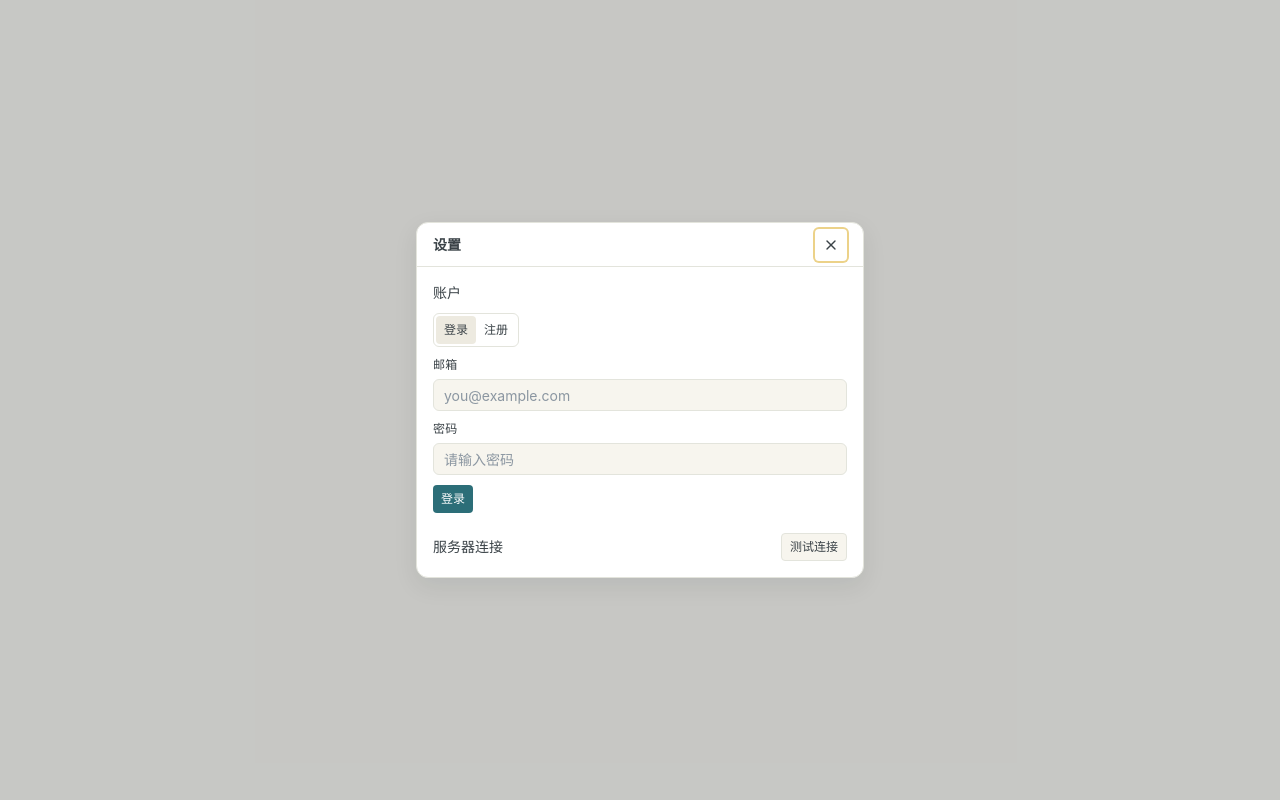
Test: settings dialog account section (cms chain) › login failure: inline error shows message and hint as two lines (findings M8)
Check: the element with test id "settings-account-form" is shown, box 433,313 -> 847,513
Type "fan@example.com" into the field with test id "settings-email".
click(640, 395); type("fan@example.com")  # box 433,379 -> 847,411
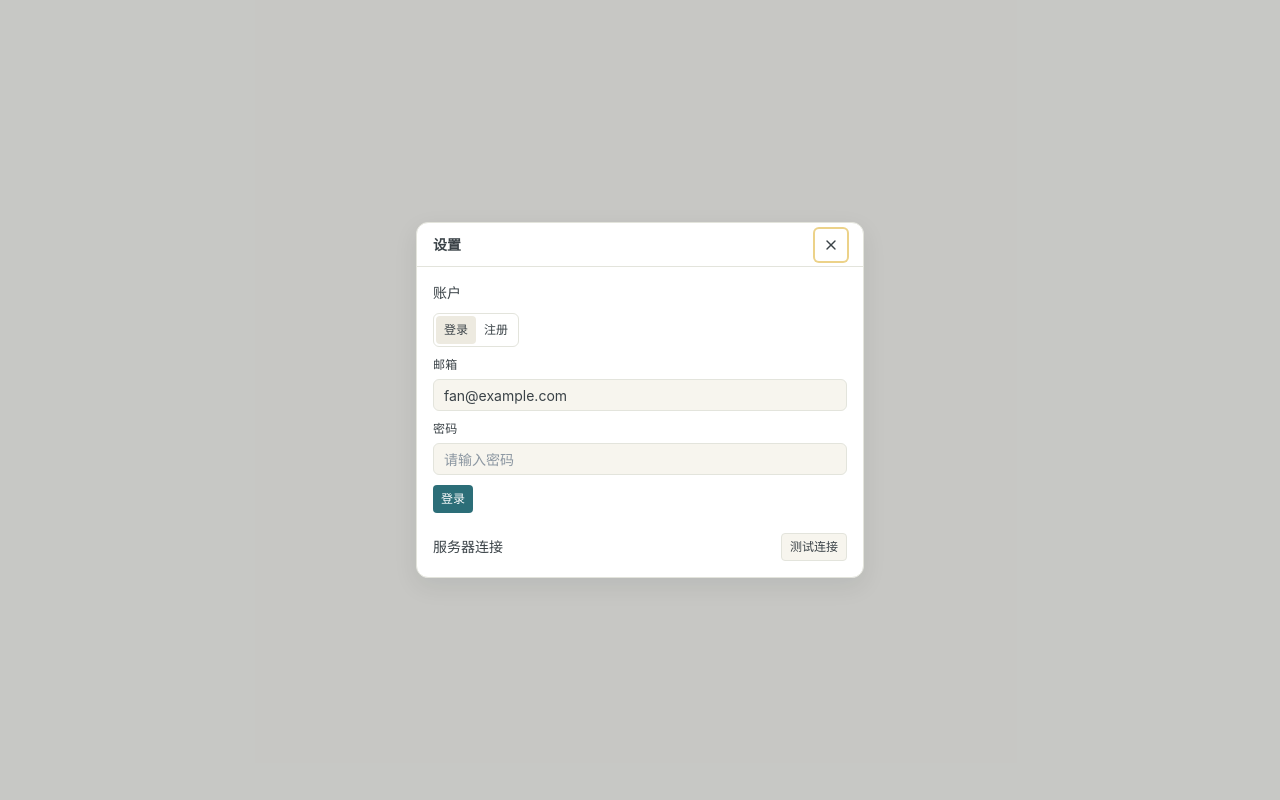
Type "secret-1" into the password field with test id "settings-password".
click(640, 459); type("secret-1")  # box 433,443 -> 847,475
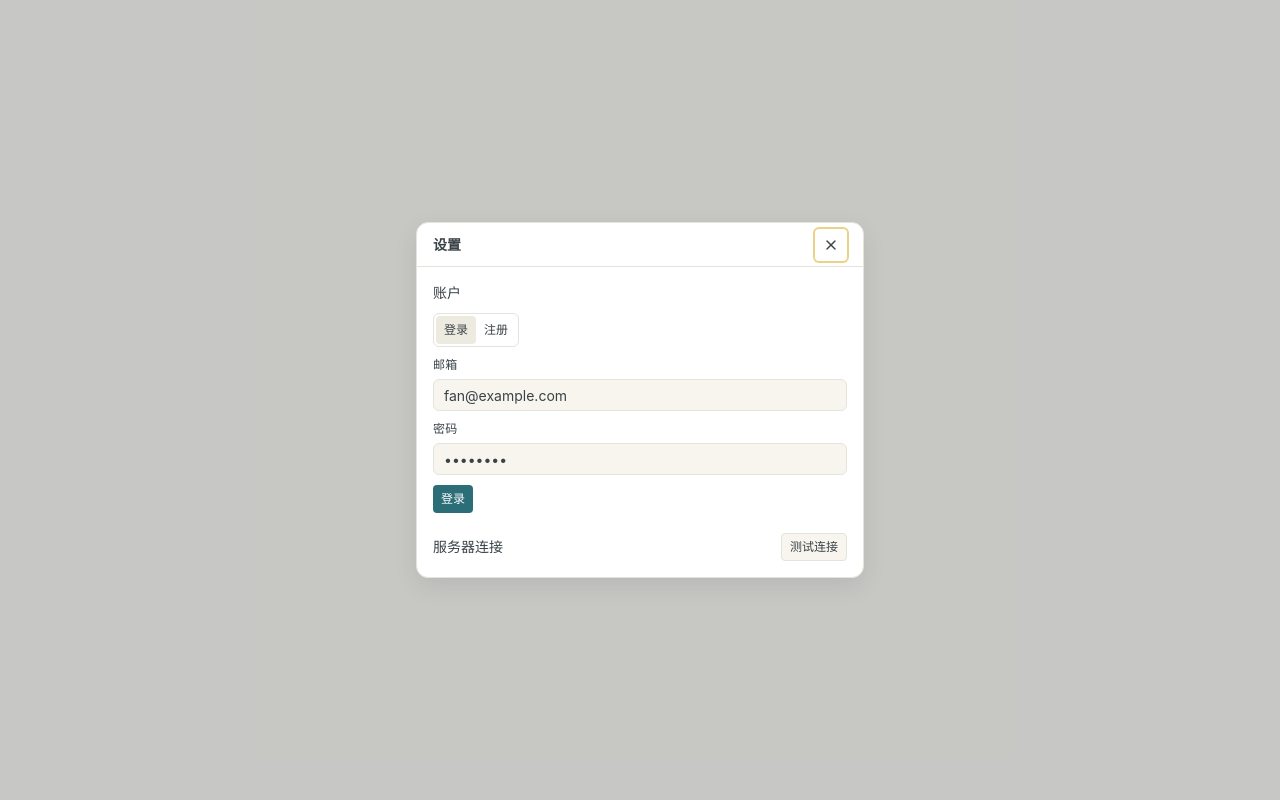
Click the button with test id "settings-login".
click(453, 499)  # box 433,485 -> 473,513
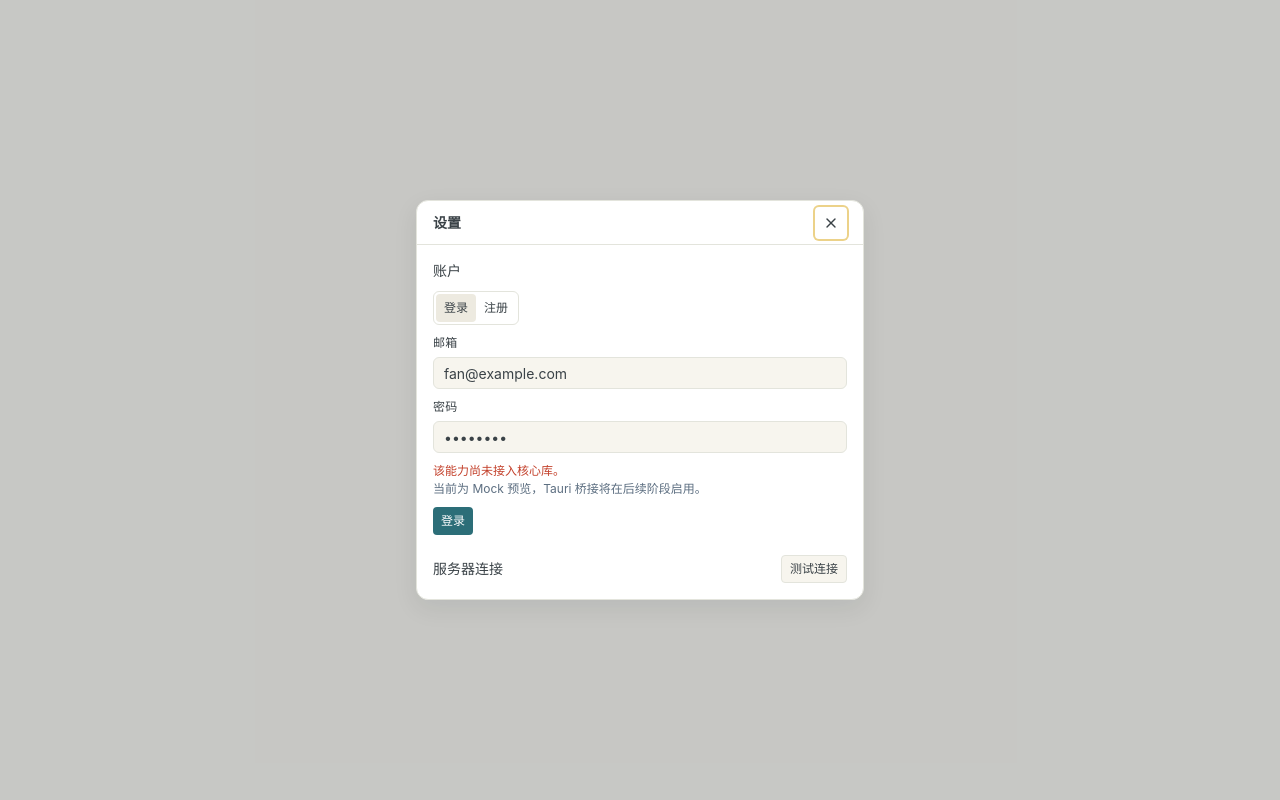
Check: the message with test id "settings-account-error" shows "该能力尚未接入核心库", box 433,463 -> 565,478
Check: the message with test id "settings-account-error" shows "当前为 Mock 预览", box 433,481 -> 707,496
